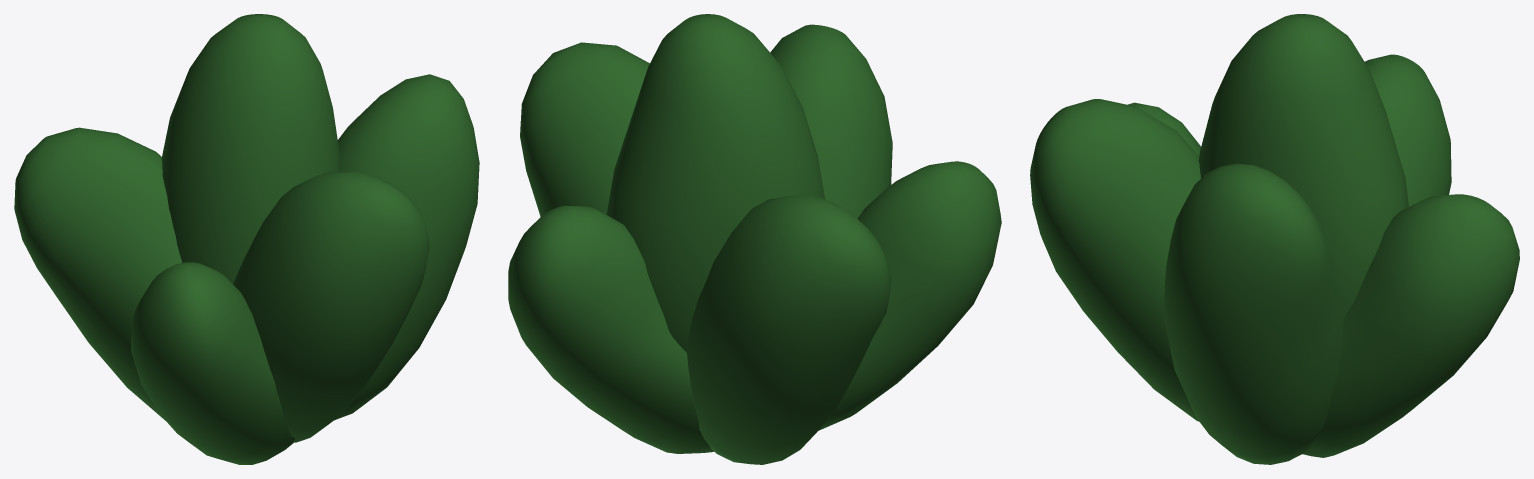
File: shrub-2-1.fbx
The picture shows the model from 3 angles, left to right: view 1: azimuth 30°, elevation 25°; view 2: azimuth 150°, elevation 25°; view 3: azimuth 270°, elevation 25°; orthographic projection. The views are drawn at different scales.
Visible parts, largest first — view 1: Sphere.001, Sphere, Sphere.004, Sphere.005, Sphere.002; view 2: Sphere.004, Sphere, Sphere.003, Sphere.005, Sphere.002, Sphere.001; view 3: Sphere.002, Sphere, Sphere.001, Sphere.003, Sphere.004, Sphere.005.
Boxes of the visible parts, <box> form: Sphere.001: <box>233,172,429,442</box>; Sphere: <box>161,14,339,283</box>; Sphere.004: <box>14,127,182,420</box>; Sphere.005: <box>131,262,295,464</box>; Sphere.002: <box>334,74,479,420</box>; Sphere.004: <box>687,194,891,464</box>; Sphere: <box>606,14,824,352</box>; Sphere.003: <box>508,205,713,453</box>; Sphere.005: <box>818,161,1001,430</box>; Sphere.002: <box>520,42,649,216</box>; Sphere.001: <box>770,24,892,218</box>; Sphere.002: <box>1164,163,1343,464</box>; Sphere: <box>1198,14,1408,318</box>; Sphere.001: <box>1030,99,1200,421</box>; Sphere.003: <box>1302,194,1519,457</box>; Sphere.004: <box>1365,54,1451,206</box>; Sphere.005: <box>1128,102,1200,156</box>.
Bounding box in the file's own units: 81.25 × 81.37 × 84.49.
